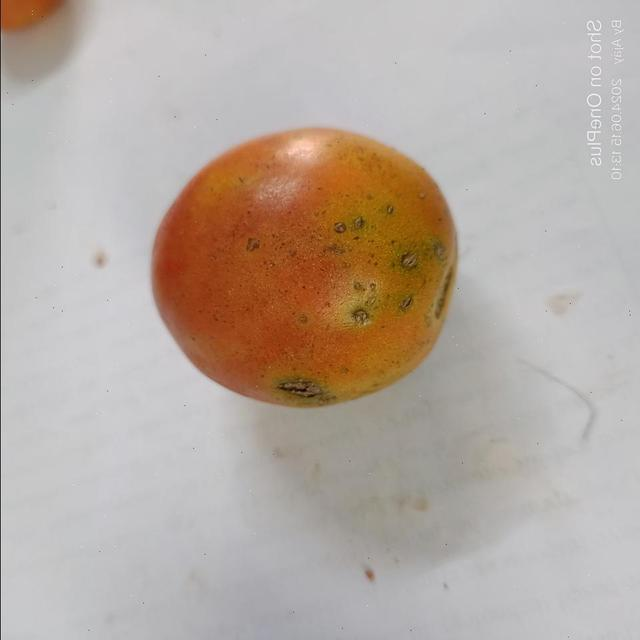Bacterial Spot Fruit: (17, 10, 272, 258)
